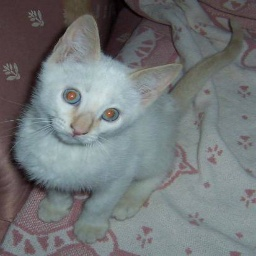cat: (11, 14, 242, 243)
